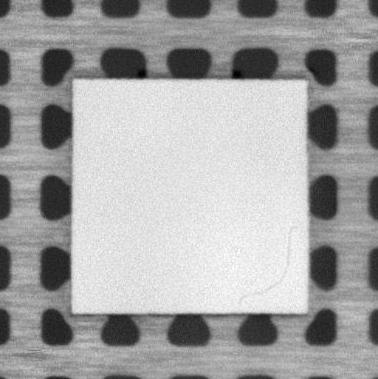DIE_CRACK: (237, 226, 296, 307)
